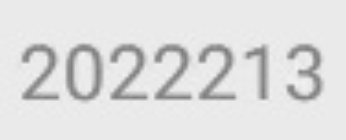TextView: (1, 1, 345, 139)
